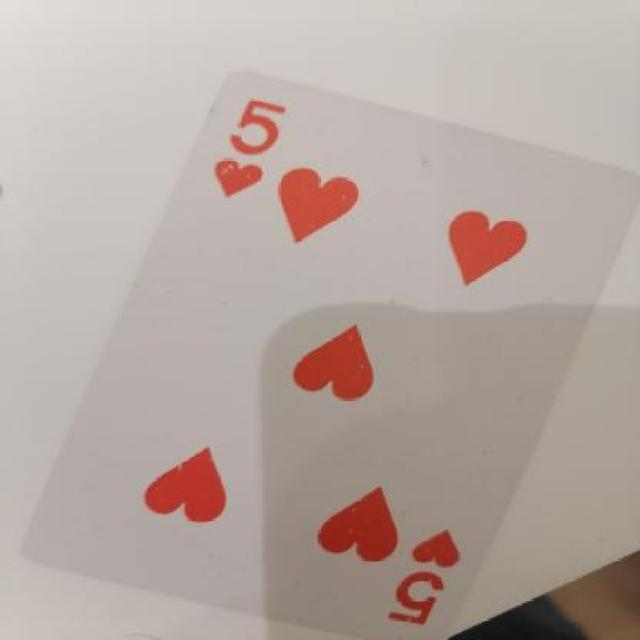5H: (190, 95, 310, 210), (382, 515, 481, 631)
